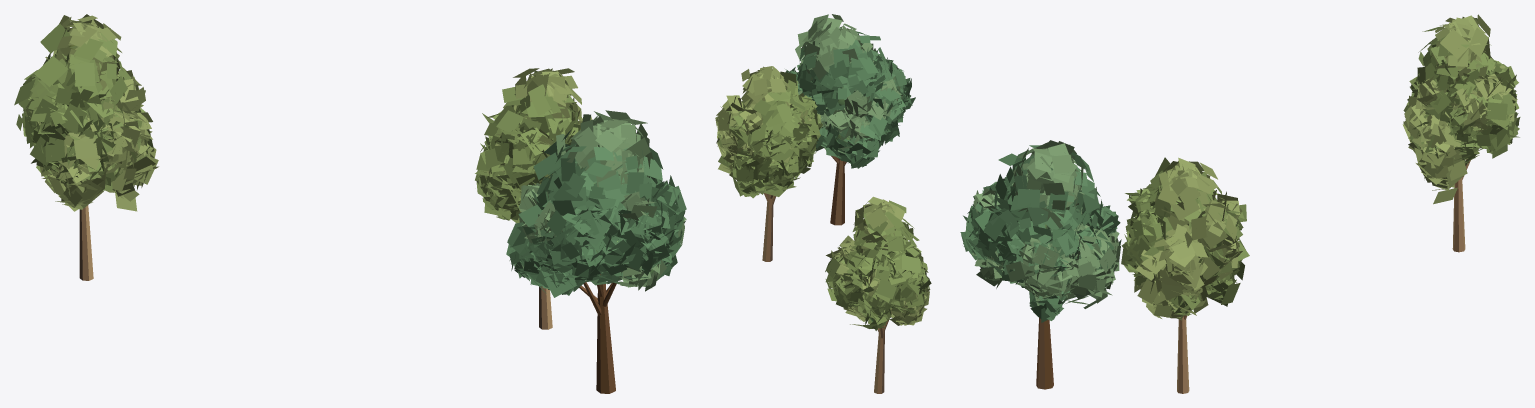
File: south-verge.glb
The picture shows the model from 3 angles, left to right: view 1: azimuth 30°, elevation 25°; view 2: azimuth 150°, elevation 25°; view 3: azimuth 270°, elevation 25°; orthographic projection. The views are drawn at different scales.
Parts seen in each view (by area): view 1: Crowns, Trunks; view 2: Crowns, Trunks; view 3: Crowns, Trunks.
Part boxes in pixels (left/top/right/bottom): Crowns: left=14, top=14, right=686, bottom=297; Trunks: left=79, top=205, right=616, bottom=393; Crowns: left=715, top=14, right=931, bottom=330; Trunks: left=762, top=156, right=891, bottom=393; Crowns: left=960, top=14, right=1520, bottom=322; Trunks: left=1036, top=159, right=1470, bottom=393.
Bounding box in the file's own units: 26.13 × 15.51 × 32.48.
